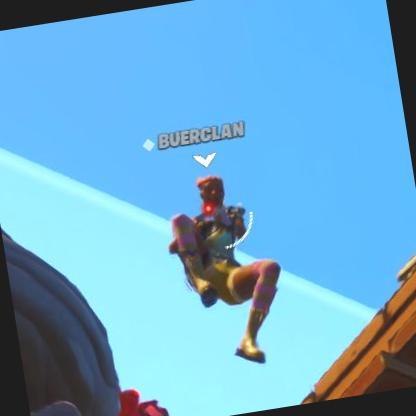person: (174, 168, 260, 318)
